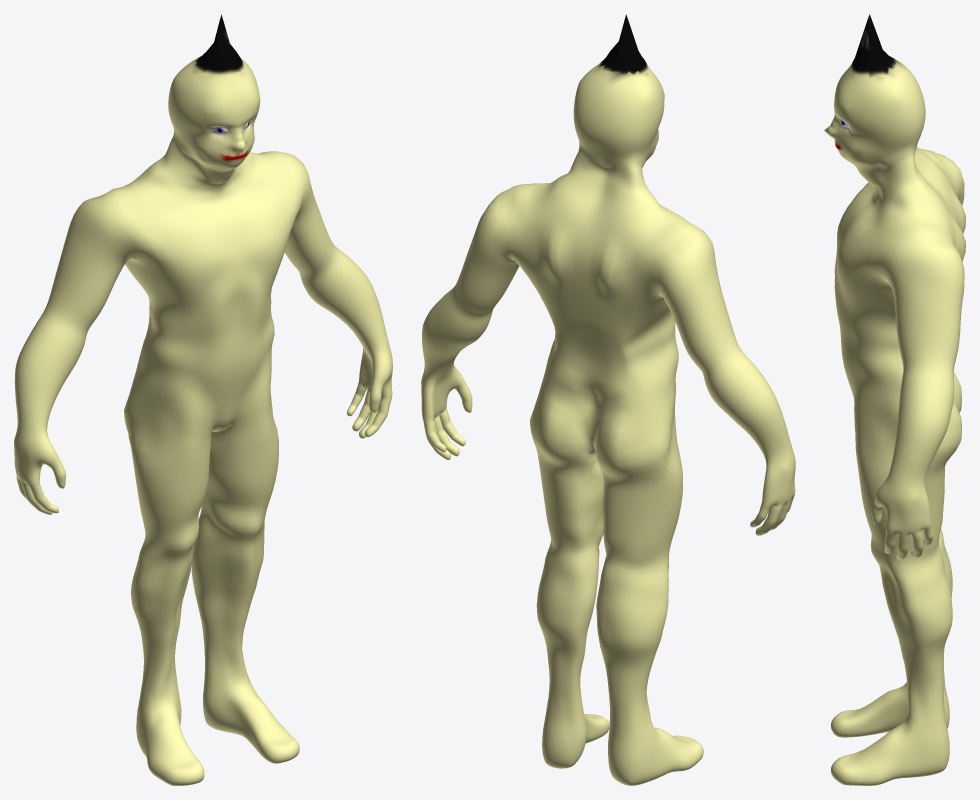
File: joe.fbx
3 views of the same model, side by side, from view 1: azimuth 30°, elevation 25°; view 2: azimuth 150°, elevation 25°; view 3: azimuth 270°, elevation 25° (orthographic).
Parts seen in each view (by area): view 1: joe; view 2: joe; view 3: joe.
Boxes of the visible parts, bbox=[...] form: joe: bbox=[14, 14, 392, 785]; joe: bbox=[421, 14, 795, 785]; joe: bbox=[824, 14, 965, 785].
Bounding box in the file's own units: 3.41 × 6.55 × 1.14.
Materials: 1 (1 with a texture image).
